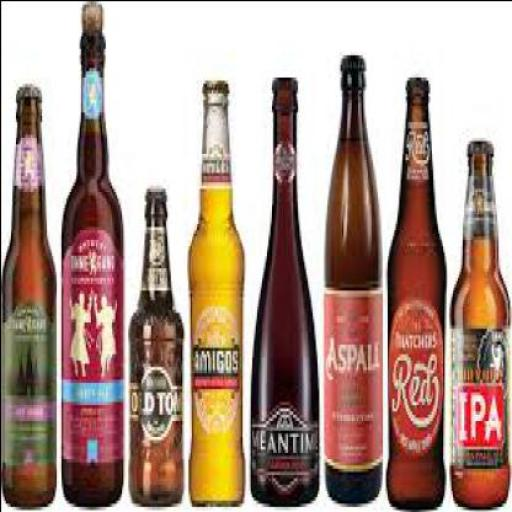glass: (58, 25, 122, 499), (246, 73, 316, 499), (319, 64, 380, 502), (382, 72, 443, 506), (185, 86, 243, 502), (0, 95, 54, 509), (448, 149, 507, 509), (125, 184, 181, 500)
metal: (13, 80, 36, 96), (336, 50, 362, 60), (200, 76, 226, 86)
